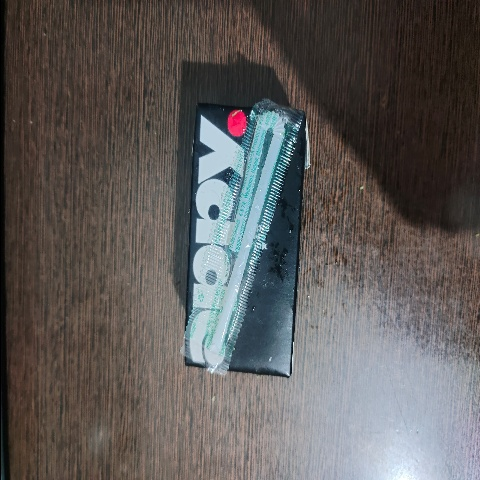appy: (153, 70, 324, 387)
